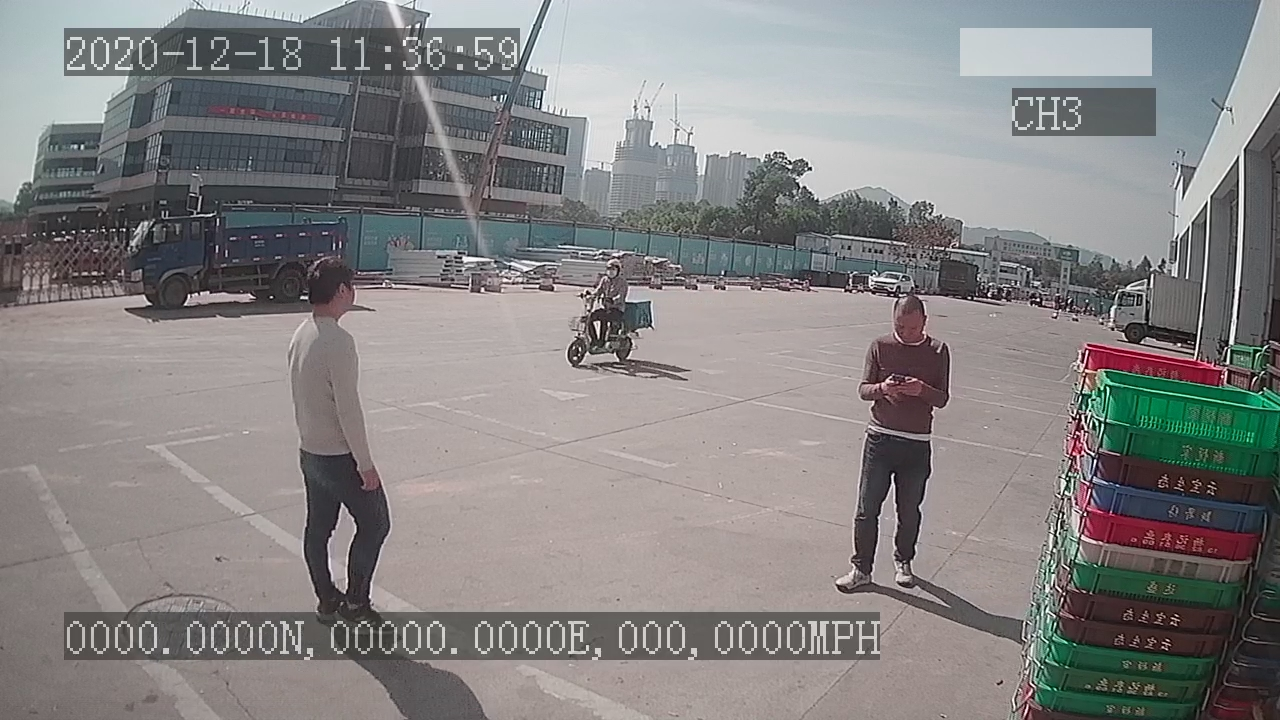person: (834, 294, 956, 595)
